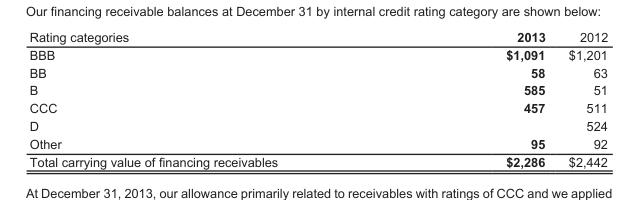table: (28, 29, 607, 168)
table column: (28, 29, 391, 168), (391, 29, 556, 168), (556, 29, 607, 168)
table column header: (28, 29, 607, 45)
table row: (28, 45, 607, 63), (28, 63, 607, 81), (28, 98, 607, 116), (28, 116, 607, 134), (28, 134, 607, 152), (28, 81, 607, 98), (28, 29, 607, 45), (28, 152, 607, 168)
